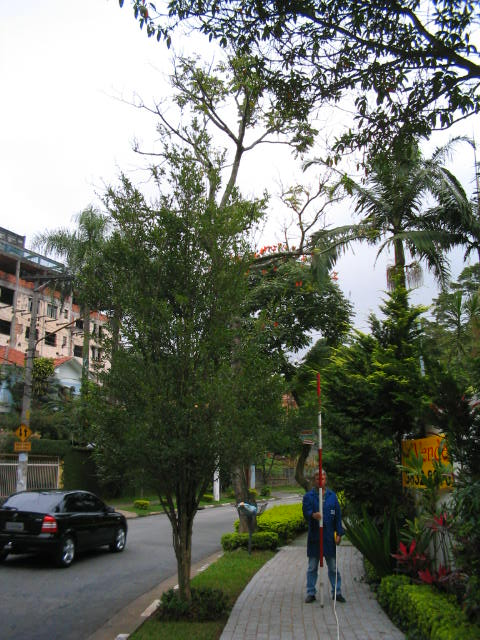crown: (69, 156, 299, 493)
stem: (164, 541, 201, 609)
stick: (302, 372, 335, 607)
tree: (65, 155, 307, 610)
